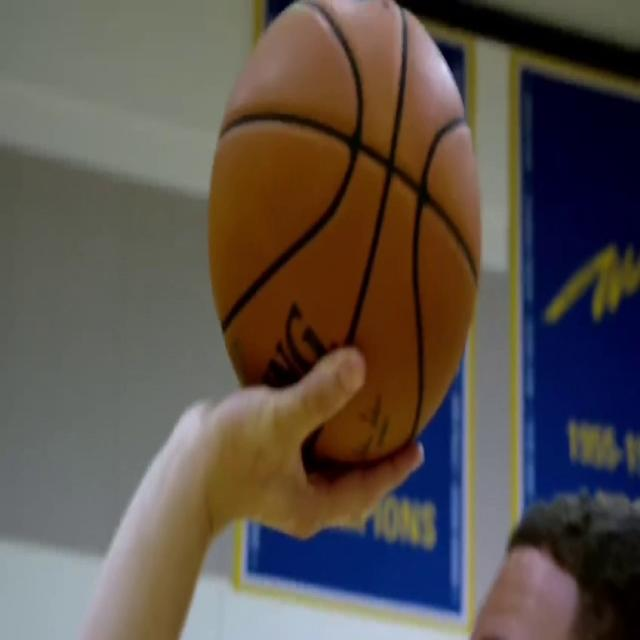ball: (208, 0, 484, 469)
